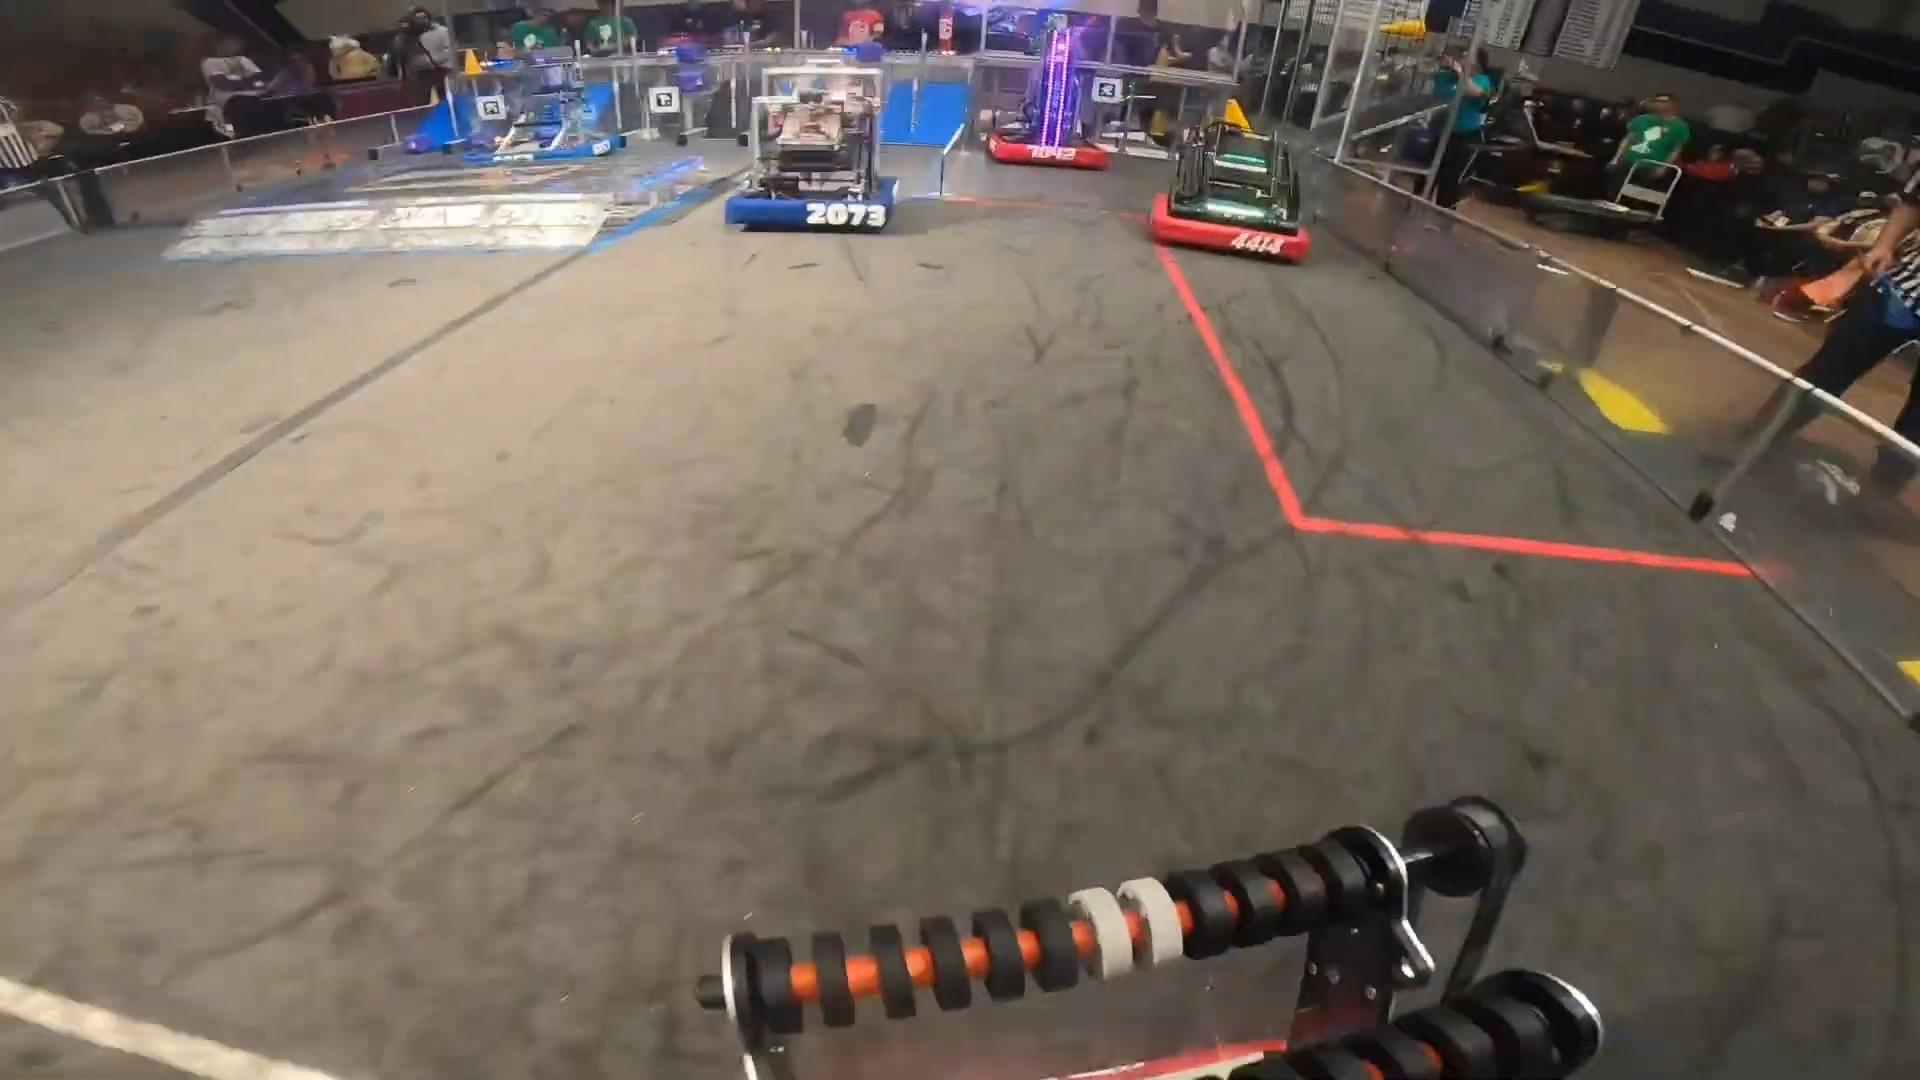robot: (724, 84, 902, 229), (1150, 120, 1311, 264), (988, 24, 1113, 170), (467, 59, 624, 165)
